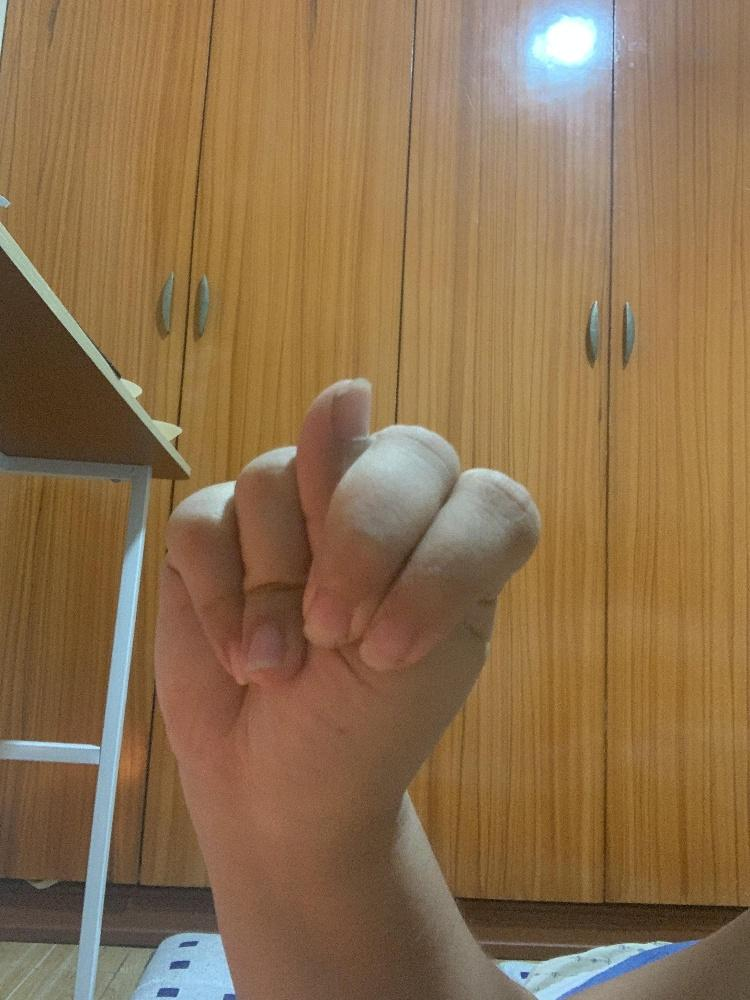n: (153, 374, 541, 841)
